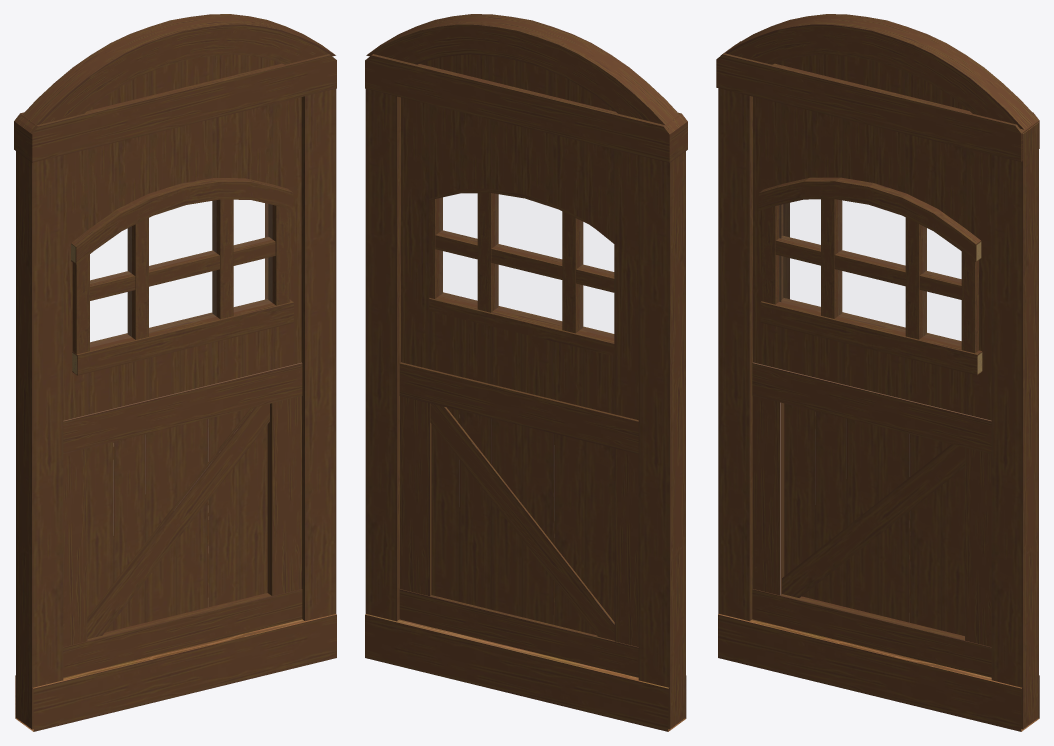
File: Door_1_Round.glb
3 renders of one model, left to right at view 1: azimuth 30°, elevation 25°; view 2: azimuth 150°, elevation 25°; view 3: azimuth 330°, elevation 25°, orthographic.
Visible parts, largest first — view 1: Door_1_Round; view 2: Door_1_Round; view 3: Door_1_Round.
Boxes of the visible parts, x1,y1,x2,y2 form: Door_1_Round: (14, 14, 336, 731); Door_1_Round: (365, 14, 687, 731); Door_1_Round: (716, 14, 1039, 731).
Size of the model in its own units: 1.12 by 2.32 by 0.1206.
Materials: 2 (1 with a texture image).
